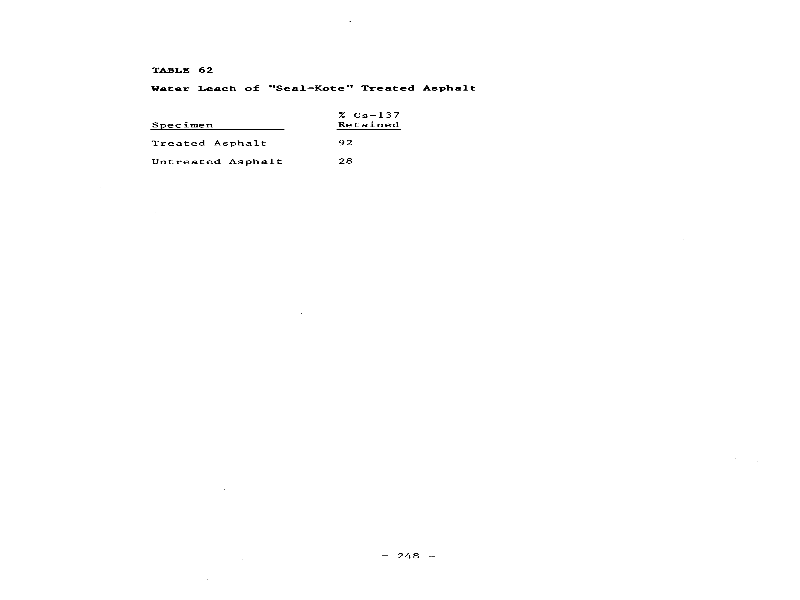table: (147, 104, 480, 200)
